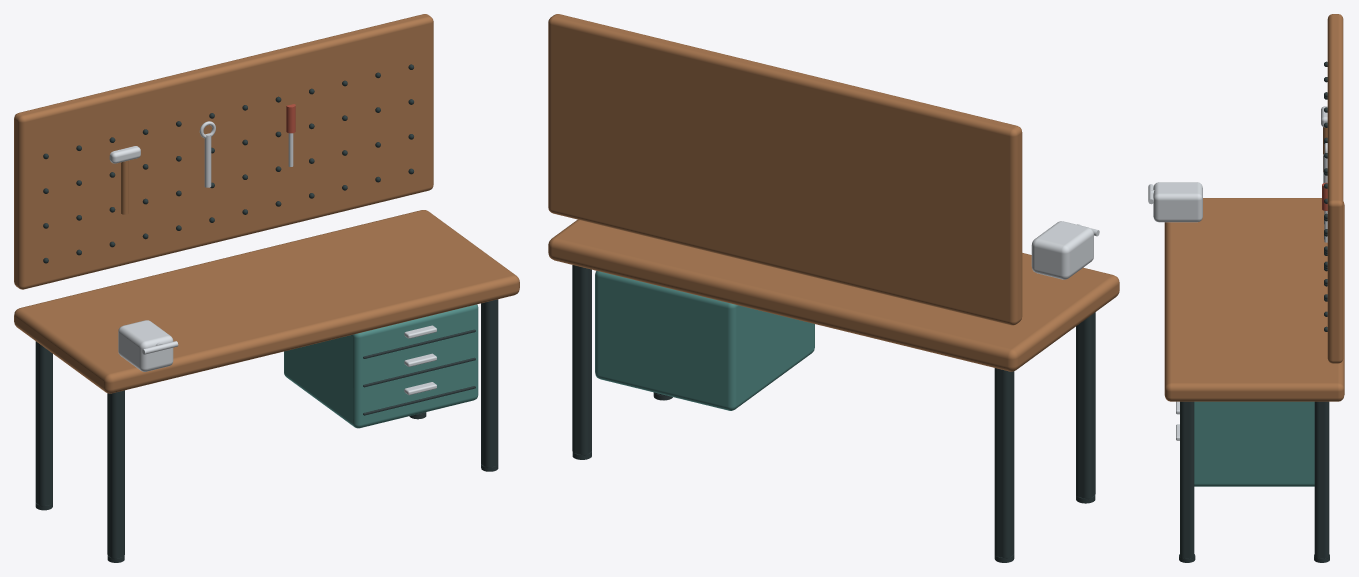
The model's file is workbench.glb.
3 views of the same model, side by side, from view 1: azimuth 30°, elevation 25°; view 2: azimuth 150°, elevation 25°; view 3: azimuth 270°, elevation 25° (orthographic). The views are drawn at different scales.
Parts seen in each view (by area): view 1: workbench; view 2: workbench; view 3: workbench.
Boxes of the visible parts, box(x1,y1,x2,y2) form: workbench: box(14, 14, 519, 562); workbench: box(548, 14, 1119, 562); workbench: box(1148, 14, 1344, 562).
Size of the model in its own units: 2 by 1.8 by 0.872.
